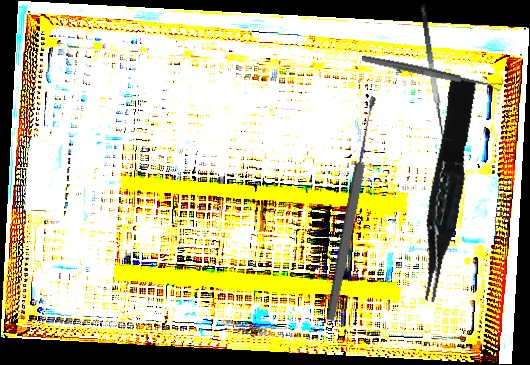Spatula Surgical: (418, 2, 455, 143)
Surgical Spoon: (323, 95, 381, 322), (361, 53, 502, 93)
Tissue Forceps: (405, 76, 486, 304)
